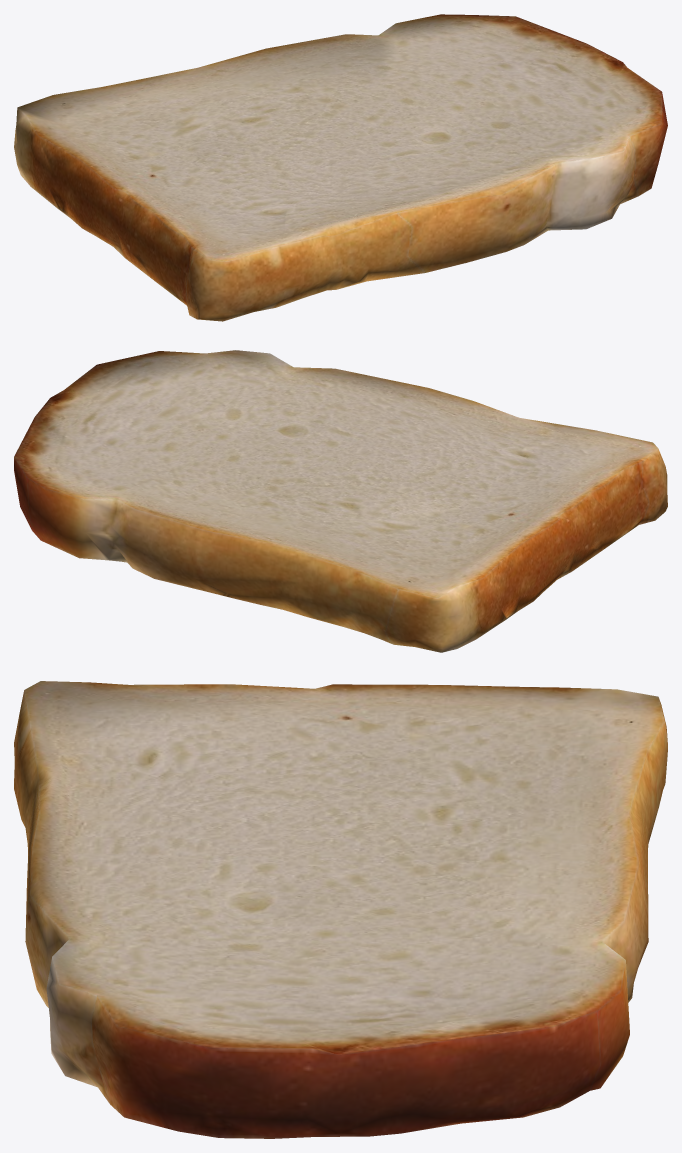
Rendered from bucket_fix.obj.
The picture shows the model from 3 angles, top to bottom: view 1: azimuth 30°, elevation 25°; view 2: azimuth 150°, elevation 25°; view 3: azimuth 270°, elevation 25°; orthographic projection. The views are drawn at different scales.
Visible parts, largest first — view 1: bucket_fix_pan_scan.001; view 2: bucket_fix_pan_scan.001; view 3: bucket_fix_pan_scan.001.
Boxes of the visible parts, x1,y1,x2,y2 form: bucket_fix_pan_scan.001: (14, 14, 667, 321); bucket_fix_pan_scan.001: (14, 350, 667, 652); bucket_fix_pan_scan.001: (14, 681, 667, 1138).
Size of the model in its own units: 2.58 by 0.325 by 1.87.
Materials: 1 (1 with a texture image).
